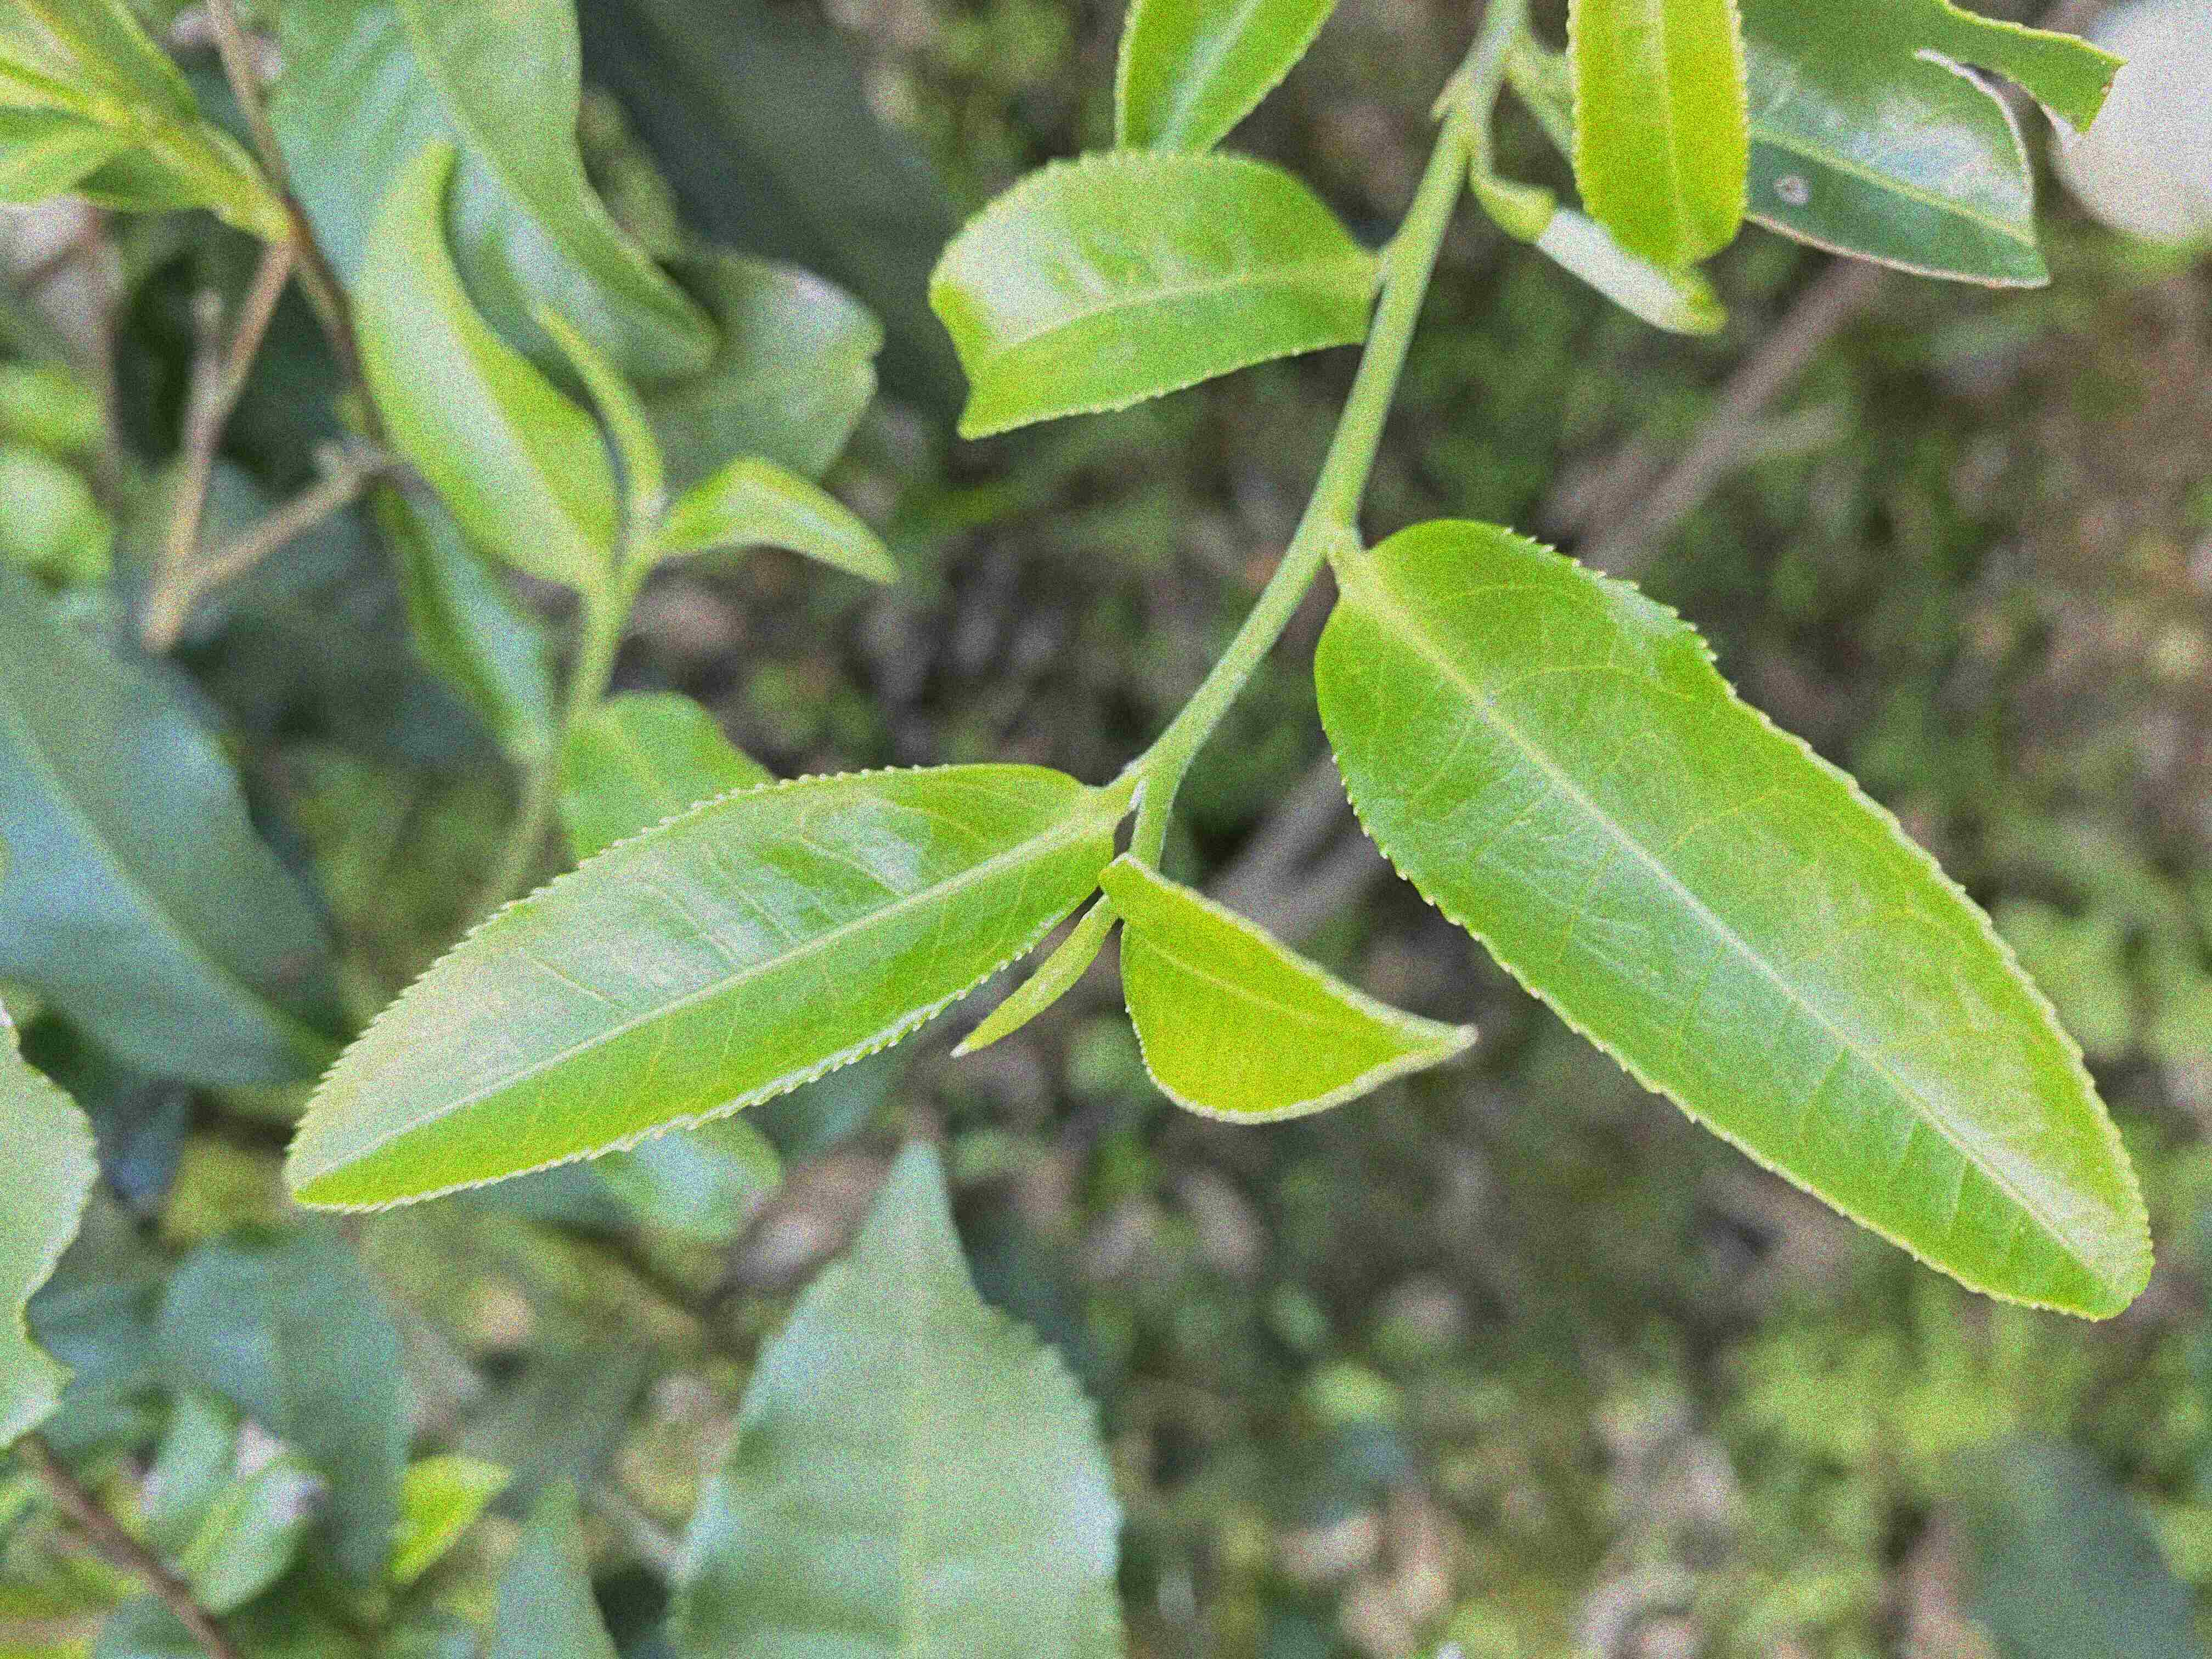chihuo_high: (1745, 0, 2130, 295)
healthy: (1306, 516, 2158, 1321), (280, 758, 1113, 1215), (923, 145, 1374, 443), (1097, 852, 1480, 1124), (1561, 2, 1754, 268)
